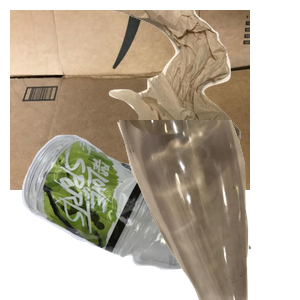cardboard: (10, 10, 250, 190)
glass: (115, 120, 300, 300)
plastic: (19, 132, 242, 300)
trash: (103, 10, 300, 173)
